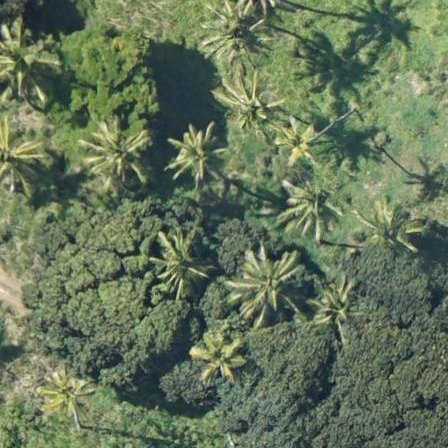palm_tree: (76, 113, 152, 194), (233, 247, 307, 319), (198, 1, 269, 67), (1, 26, 57, 101), (148, 229, 210, 296), (165, 117, 227, 183), (184, 318, 245, 383), (218, 73, 279, 138), (308, 277, 365, 334), (362, 200, 416, 253), (39, 370, 94, 418), (286, 185, 339, 231), (272, 119, 319, 167)
